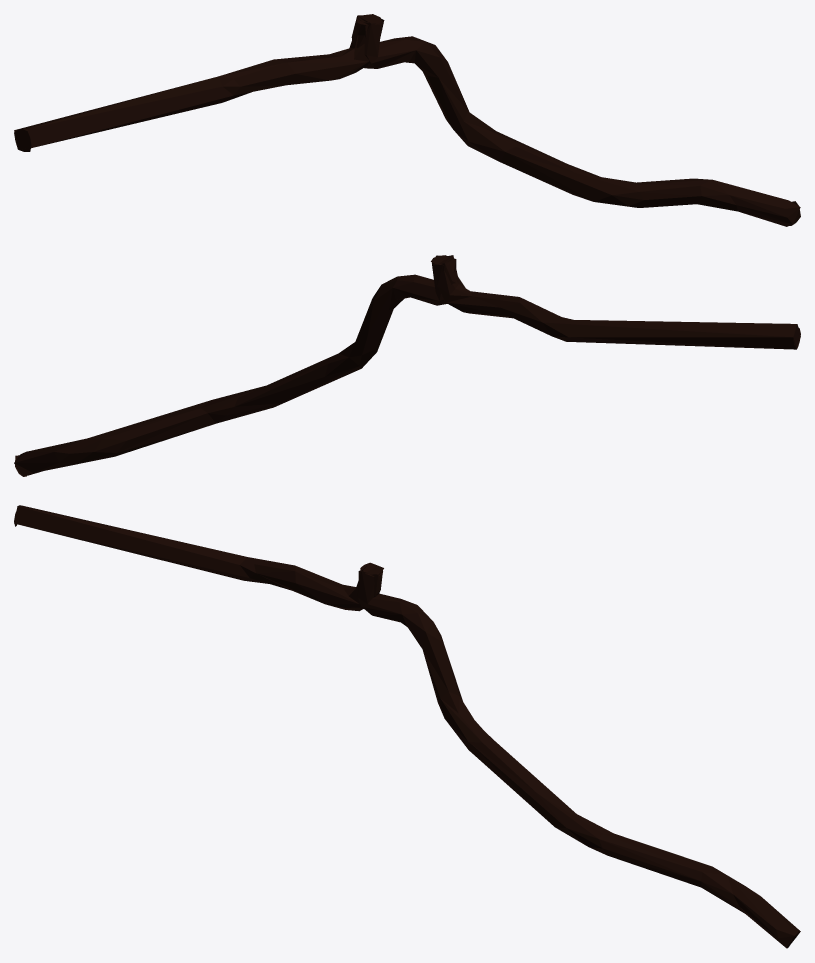
File: bogie_right_105.dae
3 views of the same model, one above another, from view 1: azimuth 30°, elevation 25°; view 2: azimuth 150°, elevation 25°; view 3: azimuth 330°, elevation 25° (orthographic). The views are drawn at different scales.
Parts seen in each view (by area): view 1: node; view 2: node; view 3: node.
Boxes of the visible parts, bbox=[...] form: node: bbox=[14, 14, 800, 226]; node: bbox=[14, 255, 800, 476]; node: bbox=[14, 505, 800, 948].
Bounding box in the file's own units: 0.5532 × 0.0743 × 0.2137.
